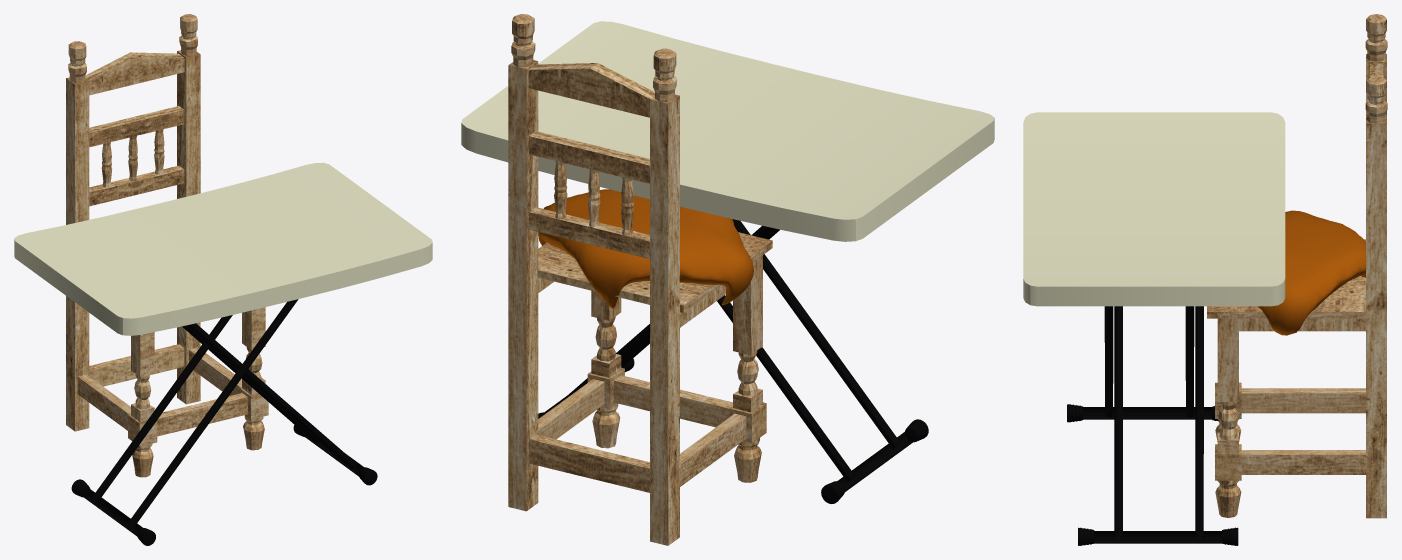
Rendered from assets5.glb.
3 renders of one model, left to right at view 1: azimuth 30°, elevation 25°; view 2: azimuth 150°, elevation 25°; view 3: azimuth 270°, elevation 25°, orthographic. The views are drawn at different scales.
Visible parts, largest first — view 1: Cube.002, Cube.011, Cube.016; view 2: Cube.011, Cube.002, Cube.012, Cube.016; view 3: Cube.002, Cube.011, Cube.016, Cube.012.
Boxes of the visible parts, x1,y1,x2,y2 form: Cube.002: [14, 162, 432, 335]; Cube.011: [66, 14, 268, 477]; Cube.016: [71, 299, 377, 545]; Cube.011: [508, 14, 772, 545]; Cube.002: [461, 21, 994, 241]; Cube.012: [538, 189, 753, 308]; Cube.016: [538, 219, 928, 503]; Cube.002: [1023, 112, 1285, 306]; Cube.011: [1207, 14, 1387, 518]; Cube.016: [1067, 306, 1238, 545]; Cube.012: [1257, 210, 1365, 335].
Bounding box in the file's own units: 1.01 × 1.19 × 0.8951.
4 materials, 1 textured.
